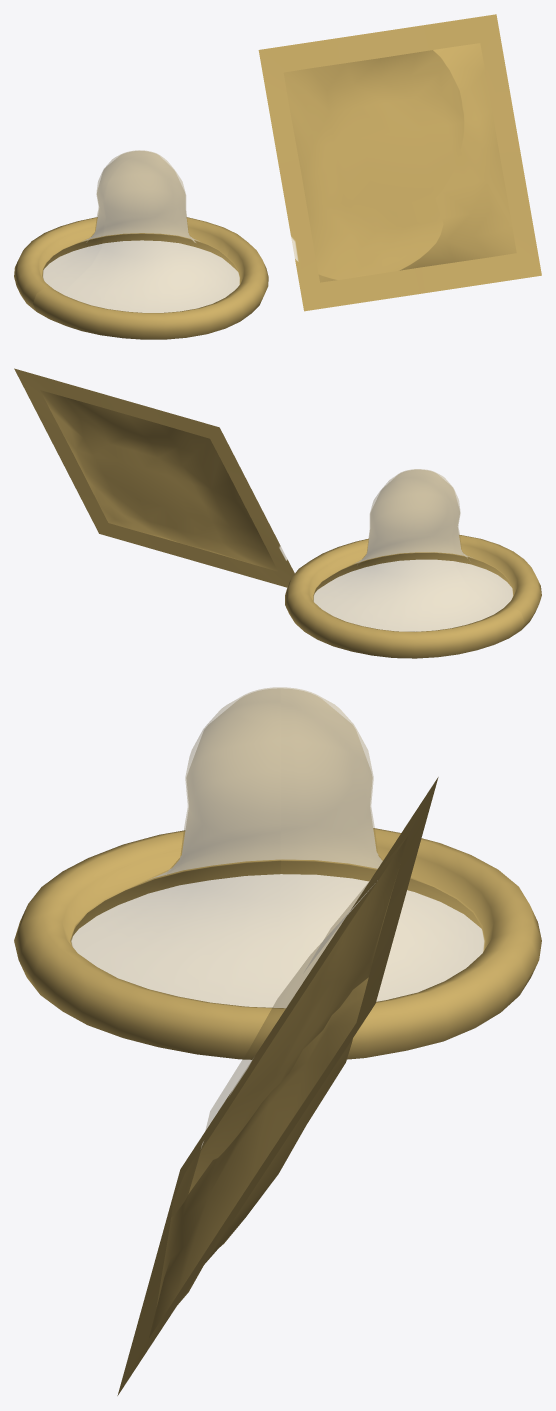
Rendered from condom.glb.
3 renders of one model, top to bottom at view 1: azimuth 30°, elevation 25°; view 2: azimuth 150°, elevation 25°; view 3: azimuth 270°, elevation 25°, orthographic. The views are drawn at different scales.
Parts seen in each view (by area): view 1: Condom_Low_Poly, Condom; view 2: Condom, Condom_Low_Poly; view 3: Condom, Condom_Low_Poly.
Boxes of the visible parts, x1,y1,x2,y2 form: Condom_Low_Poly: (258,14,541,311); Condom: (14,150,268,339); Condom: (285,469,541,658); Condom_Low_Poly: (14,368,294,587); Condom: (14,687,541,1059); Condom_Low_Poly: (117,777,438,1395).
Size of the model in its own units: 67.23 by 28.39 by 31.91.
Materials: 1 (1 with a texture image).
